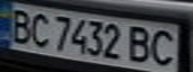2: (103, 20, 127, 61)
3: (84, 19, 106, 58)
4: (66, 16, 87, 55)
7: (48, 14, 72, 52)
B: (124, 24, 157, 64), (3, 6, 36, 45)
C: (145, 27, 181, 68), (24, 10, 54, 48)
